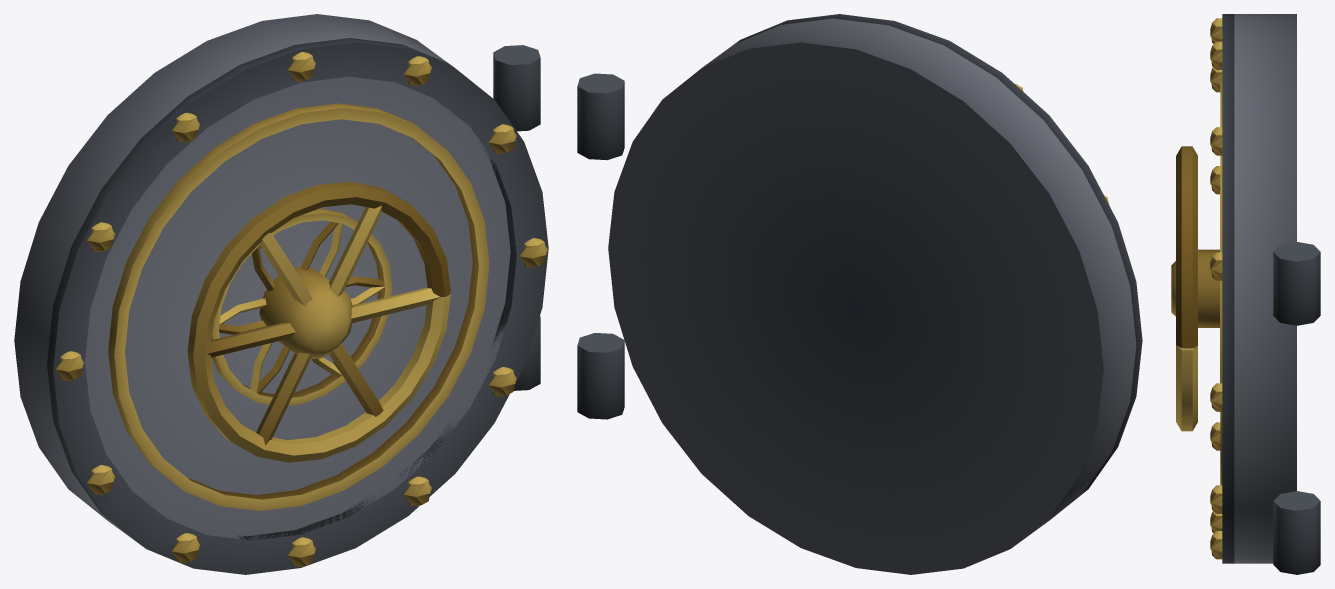
The model's file is vault_door.glb.
3 renders of one model, left to right at view 1: azimuth 30°, elevation 25°; view 2: azimuth 150°, elevation 25°; view 3: azimuth 270°, elevation 25°, orthographic. The views are drawn at different scales.
Parts seen in each view (by area): view 1: vault_door_trim; view 2: vault_door_trim; view 3: vault_door_trim.
Boxes of the visible parts, x1=… form: vault_door_trim: x1=14, y1=14, x2=548, y2=574; vault_door_trim: x1=577, y1=14, x2=1142, y2=574; vault_door_trim: x1=1171, y1=14, x2=1320, y2=574.
Size of the model in its own units: 1.48 by 1.4 by 0.38.
